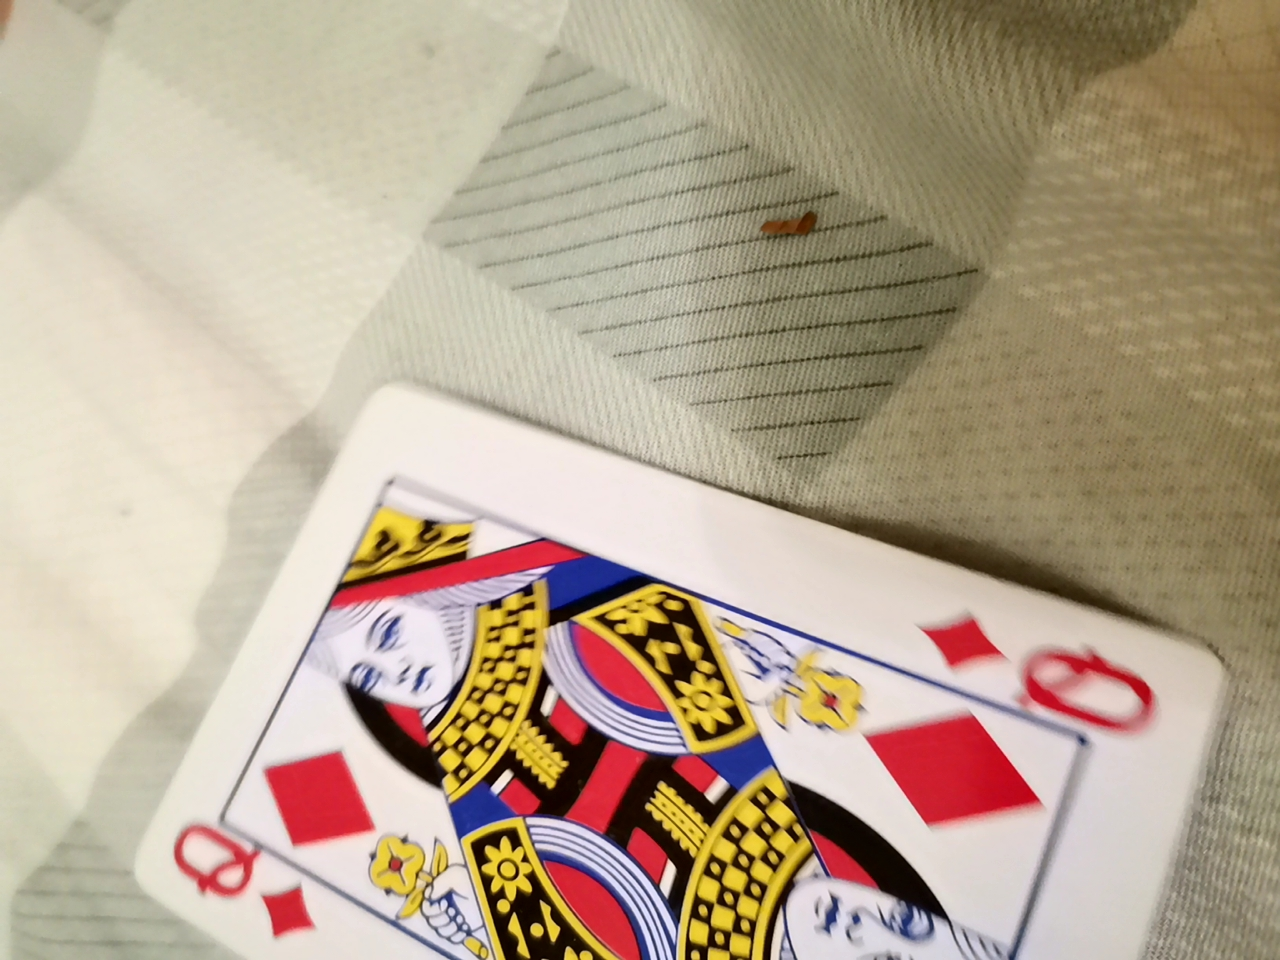fk q: (96, 365, 1223, 955)
